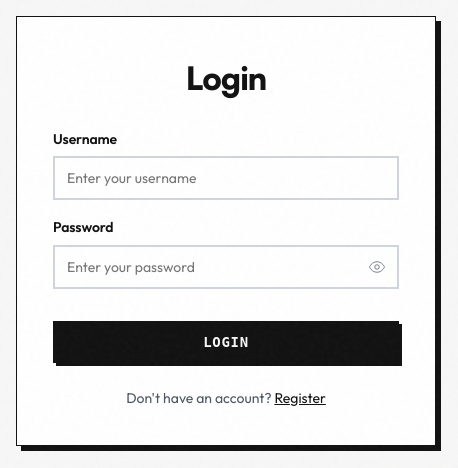
Test case: LoginForm component › toggles password visibility when clicking the reveal button
What coordinates should you click on to do the following:
click the button named "Show password"
I would click on:
 (377, 267)
Its box is x1=357 y1=247 x2=397 y2=287.
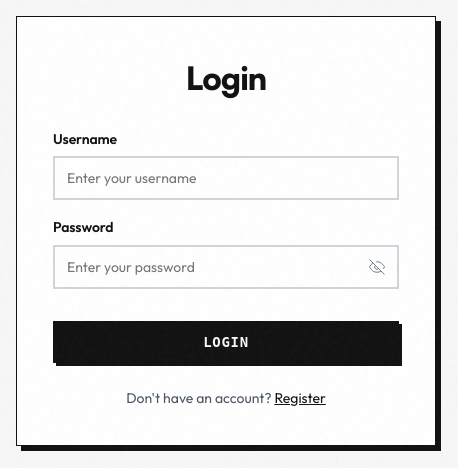
Expected: the button named "Hide password" is shown, x1=357 y1=247 x2=397 y2=287
